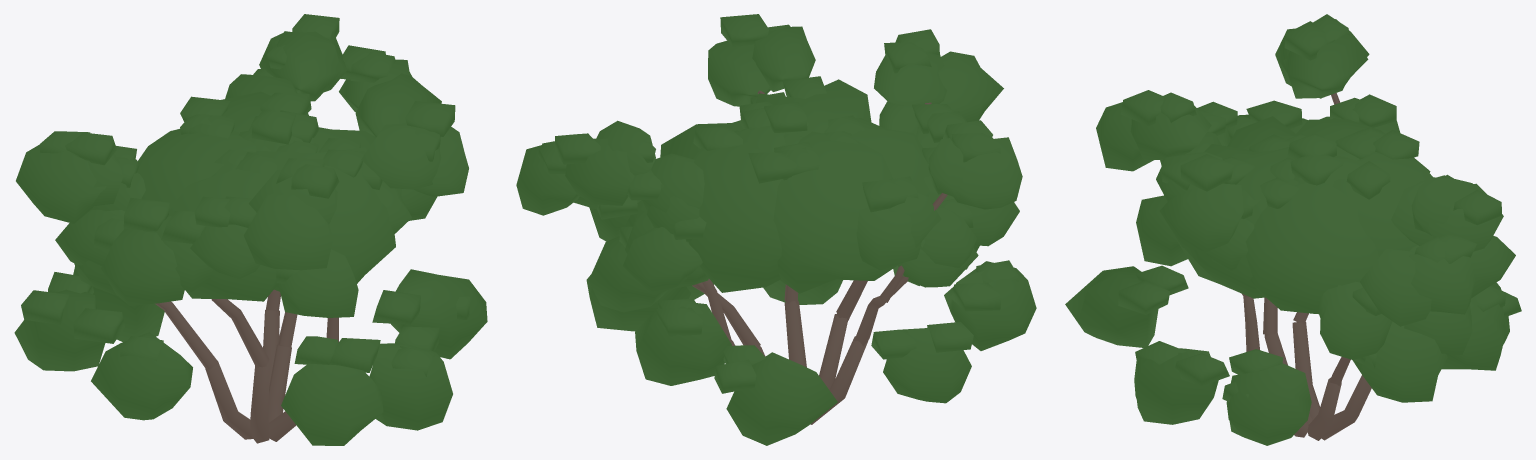
The model's file is Blender_MountainLaurelShrub_1.glb.
The picture shows the model from 3 angles, left to right: view 1: azimuth 30°, elevation 25°; view 2: azimuth 150°, elevation 25°; view 3: azimuth 270°, elevation 25°; orthographic projection. The views are drawn at different scales.
Visible parts, largest first — view 1: Blender_MountainLaurelShrub_1; view 2: Blender_MountainLaurelShrub_1; view 3: Blender_MountainLaurelShrub_1.
Boxes of the visible parts, x1,y1,x2,y2 form: Blender_MountainLaurelShrub_1: (14, 14, 487, 445); Blender_MountainLaurelShrub_1: (516, 14, 1036, 445); Blender_MountainLaurelShrub_1: (1065, 14, 1521, 445).
Size of the model in its own units: 3.31 by 2.4 by 3.03.
